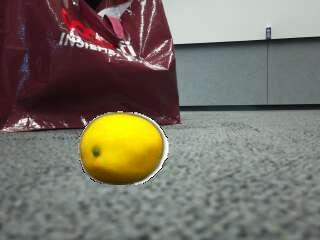lemon: (83, 114, 166, 184)
